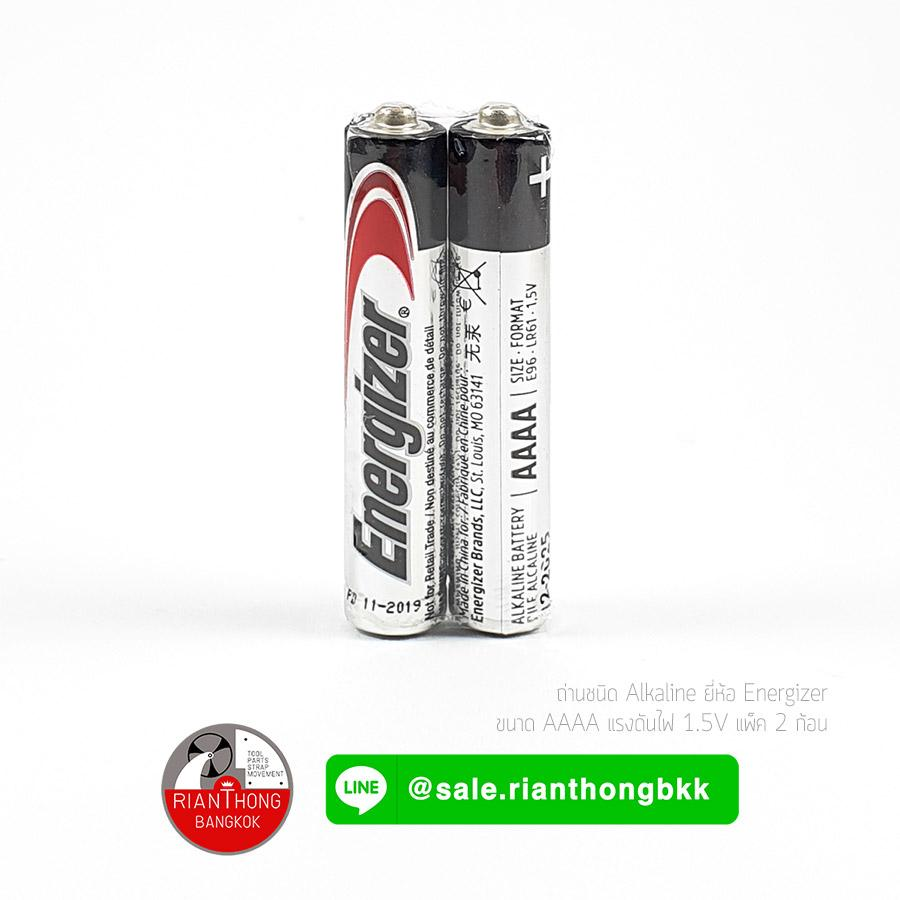Battery: (341, 100, 451, 643), (446, 102, 556, 642)
